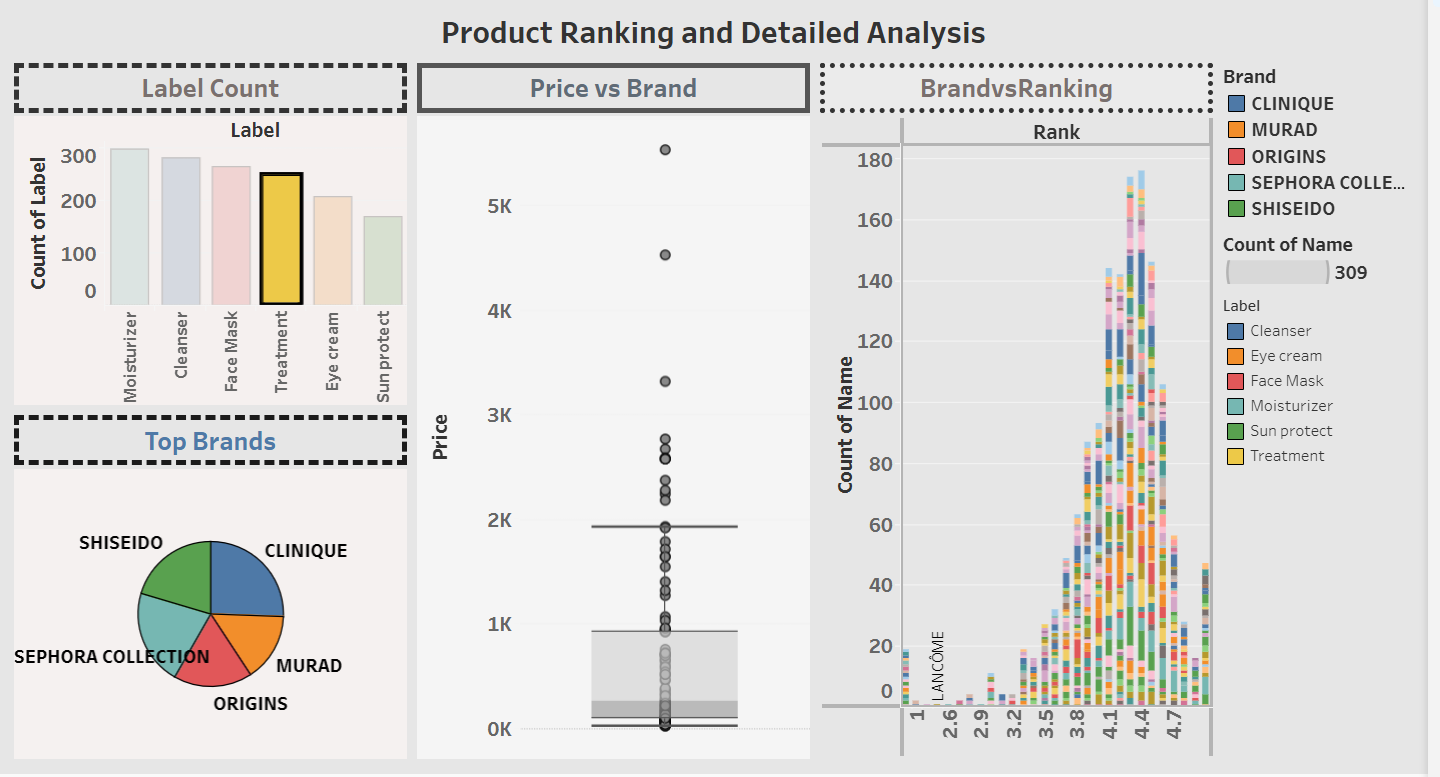

Layout of this report page (visuals, bound fields, positions):
{"tool":"tableau","page":{"name":"Dashboard 1","canvas":[1000,1000],"units":"permille","ordinal":0},"visuals":[{"type":"title","box":[4.8,10,990.3,61.2]},{"type":"worksheet","title":"Labelcount belongs to scenario 1 and 3","mark":"Automatic","rows":["Label"],"cols":["Label"],"box":[4.8,71.2,297.9,459.4]},{"type":"worksheet","title":"pricevsbrand belongs to scenario 1 and 3","mark":"Circle","rows":["Price"],"box":[302.7,71.2,297.9,918.8]},{"type":"worksheet","title":"BrandvsRanking belongs to all scenarios","mark":"Bar","rows":["Name"],"cols":["Rank"],"box":[600.6,71.2,298,918.8]},{"type":"legend","title":"top brands belongs to Scenario 1 and 3 ","param":"[federated.186qhqw1r5hyl615t013z1gjae3n].[none:Brand:nk]","box":[898.6,71.2,96.6,198.5]},{"type":"legend","title":"top brands belongs to Scenario 1 and 3 ","param":"[federated.186qhqw1r5hyl615t013z1gjae3n].[cnt:Name:qk]","box":[898.6,269.7,96.6,73.7]},{"type":"legend","title":"Labelcount belongs to scenario 1 and 3","param":"[federated.186qhqw1r5hyl615t013z1gjae3n].[none:Label:nk]","box":[898.6,343.3,96.6,194.8]},{"type":"worksheet","title":"top brands belongs to Scenario 1 and 3 ","mark":"Pie","box":[4.8,530.6,297.9,459.4]}]}

Visuals, with their boxes on the dashboard's canvas, which has no fixed pixel size, in thousandths of its width and height (x1, y1, x2, y2). These are canvas units, not pixel positions in the 1440x777 screenshot, which may show the page scaled, cropped or inside an application window:
title: pyautogui.locateOnScreen(5, 10, 995, 71)
"Labelcount belongs to scenario 1 and 3" worksheet: pyautogui.locateOnScreen(5, 71, 303, 531)
"pricevsbrand belongs to scenario 1 and 3" worksheet (Circle marks): pyautogui.locateOnScreen(303, 71, 601, 990)
"BrandvsRanking belongs to all scenarios" worksheet (Bar marks): pyautogui.locateOnScreen(601, 71, 899, 990)
"top brands belongs to Scenario 1 and 3 " legend: pyautogui.locateOnScreen(899, 71, 995, 270)
"top brands belongs to Scenario 1 and 3 " legend: pyautogui.locateOnScreen(899, 270, 995, 343)
"Labelcount belongs to scenario 1 and 3" legend: pyautogui.locateOnScreen(899, 343, 995, 538)
"top brands belongs to Scenario 1 and 3 " worksheet (Pie marks): pyautogui.locateOnScreen(5, 531, 303, 990)
